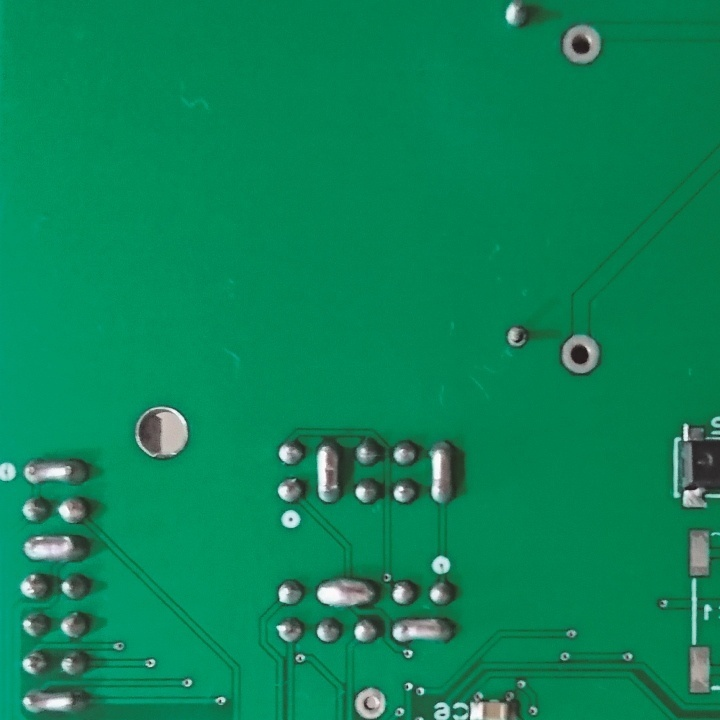F: (556, 23, 607, 69), (556, 332, 605, 379), (350, 686, 390, 718), (502, 322, 532, 352)
P: (20, 454, 92, 487), (19, 532, 93, 564), (388, 612, 456, 646), (426, 440, 459, 509), (314, 574, 379, 609), (313, 438, 344, 507), (18, 686, 89, 715)
